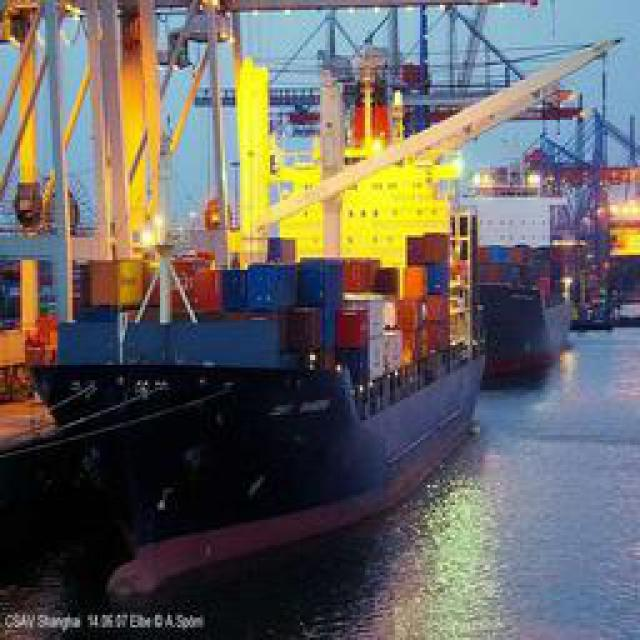Ship: (39, 6, 612, 599)
